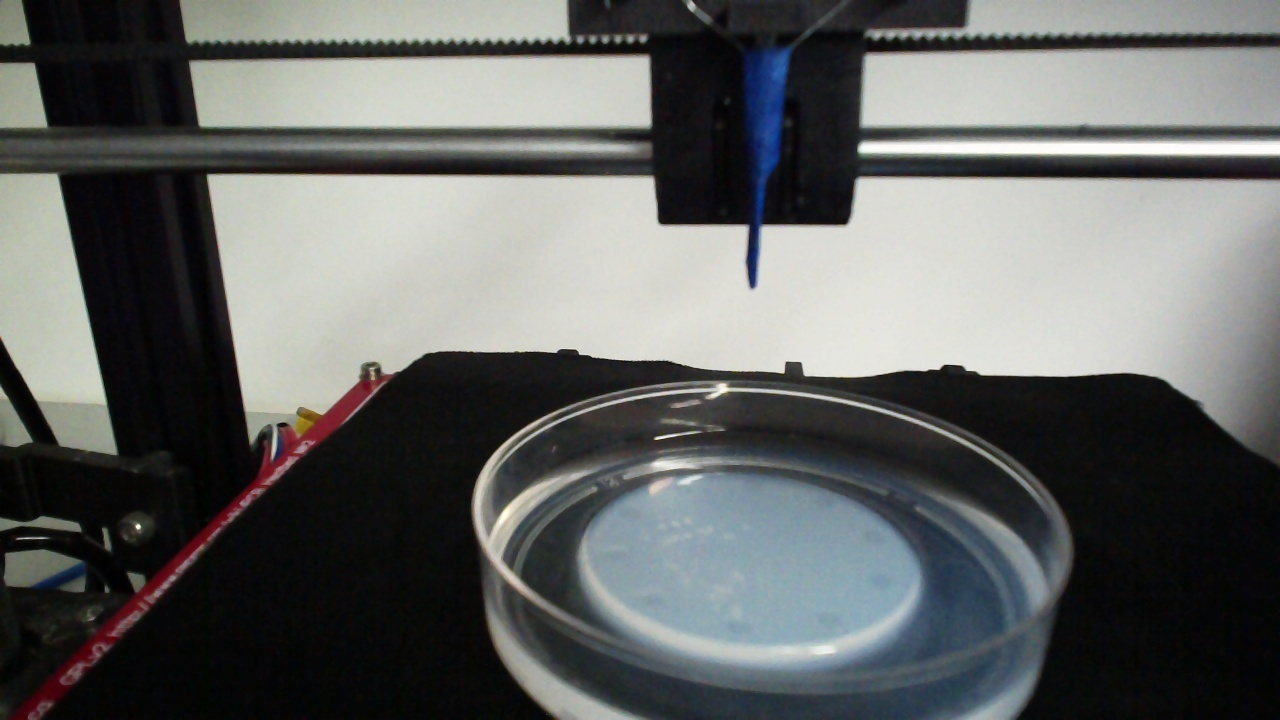groove: (806, 490, 836, 509), (726, 618, 754, 637), (869, 572, 895, 591), (603, 544, 630, 562), (814, 611, 842, 628), (617, 504, 643, 522), (863, 530, 888, 548), (640, 592, 666, 609)
needle: (746, 51, 787, 288)
